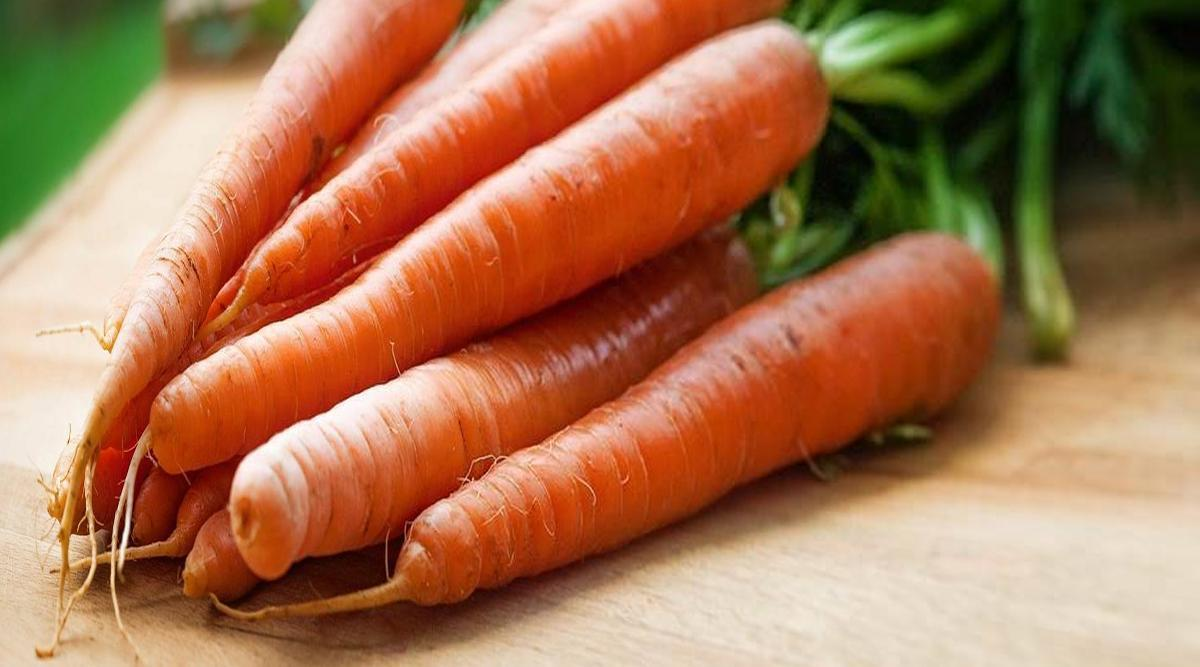carrot: (66, 0, 1016, 595), (228, 54, 848, 505)
